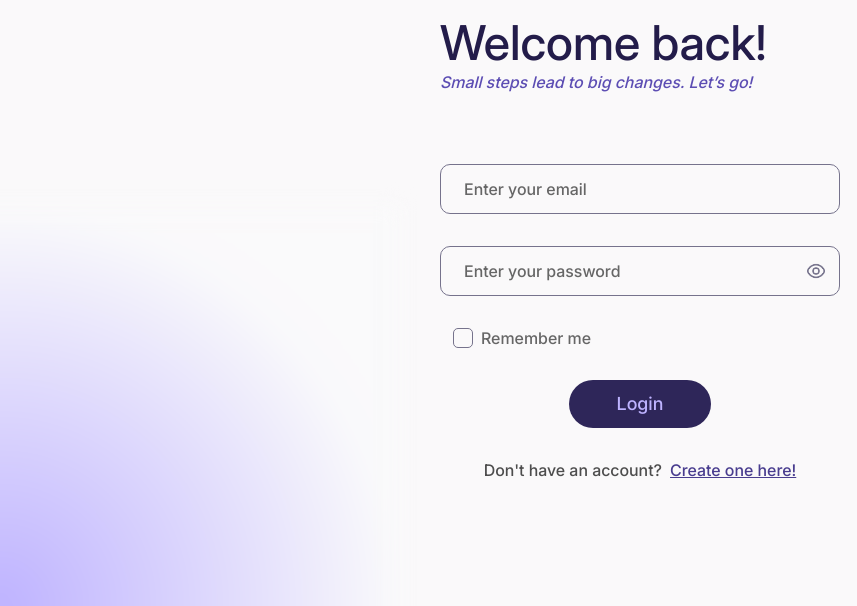
Test: Login Page Frontend Validations › should show validation message for invalid email format
The width and height of the screenshot is (857, 606).
Type "invalidemail" into the field with test id "email_text_input" at (640, 189), box [440, 164, 840, 214]
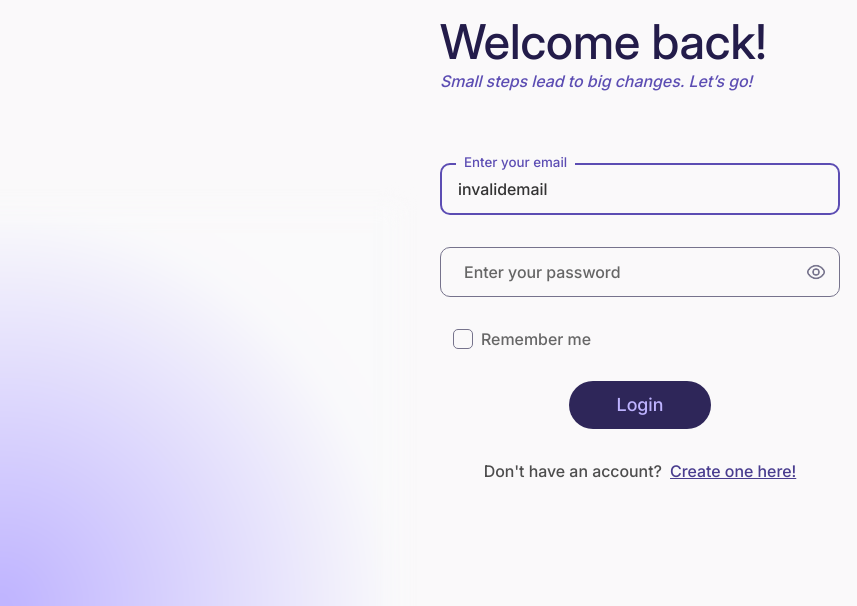
Type "Nagyjelszo123!" into the password field with test id "password_text_input" at (640, 272), box [440, 247, 840, 297]
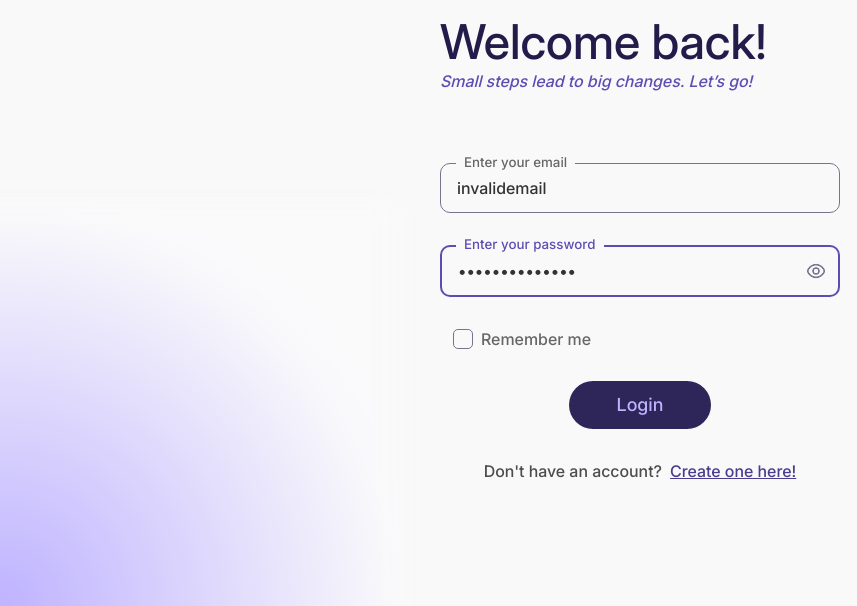
Click the button with test id "login_button" at (641, 405), box [569, 381, 712, 429]
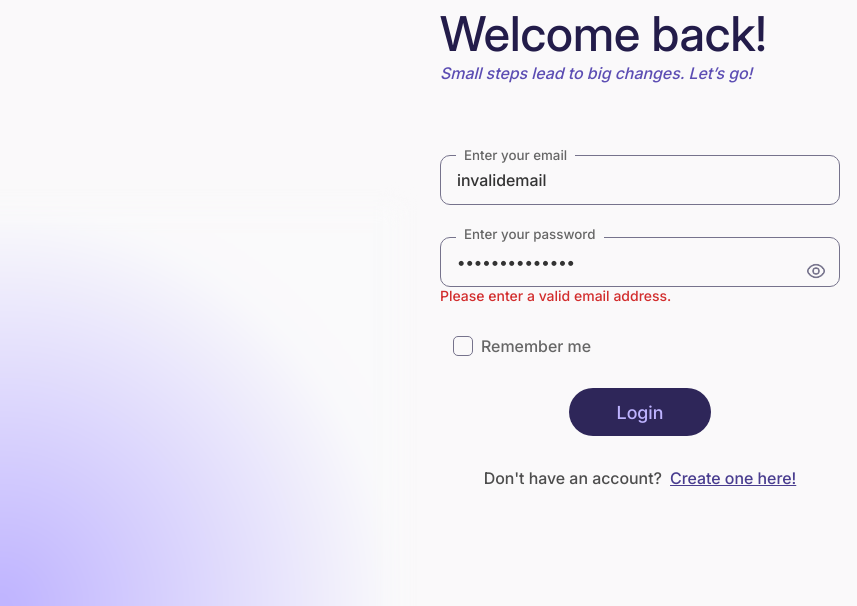
Now the element showing "Please enter a valid email address." is shown, box [440, 287, 671, 304]
